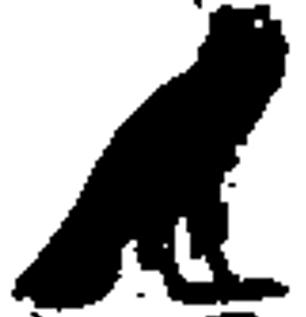Owl: (8, 3, 296, 313)
